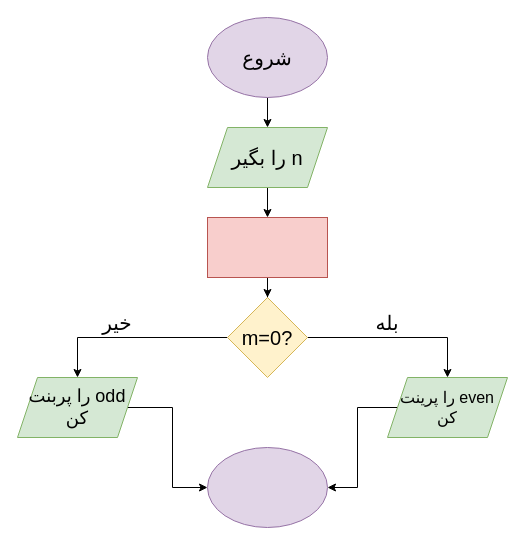
This 525x545 diagram has some shape labels left out. Each missing label, with the centre of its shape:
m = n % 2: the point at 267,247
پایان: the point at 267,487
